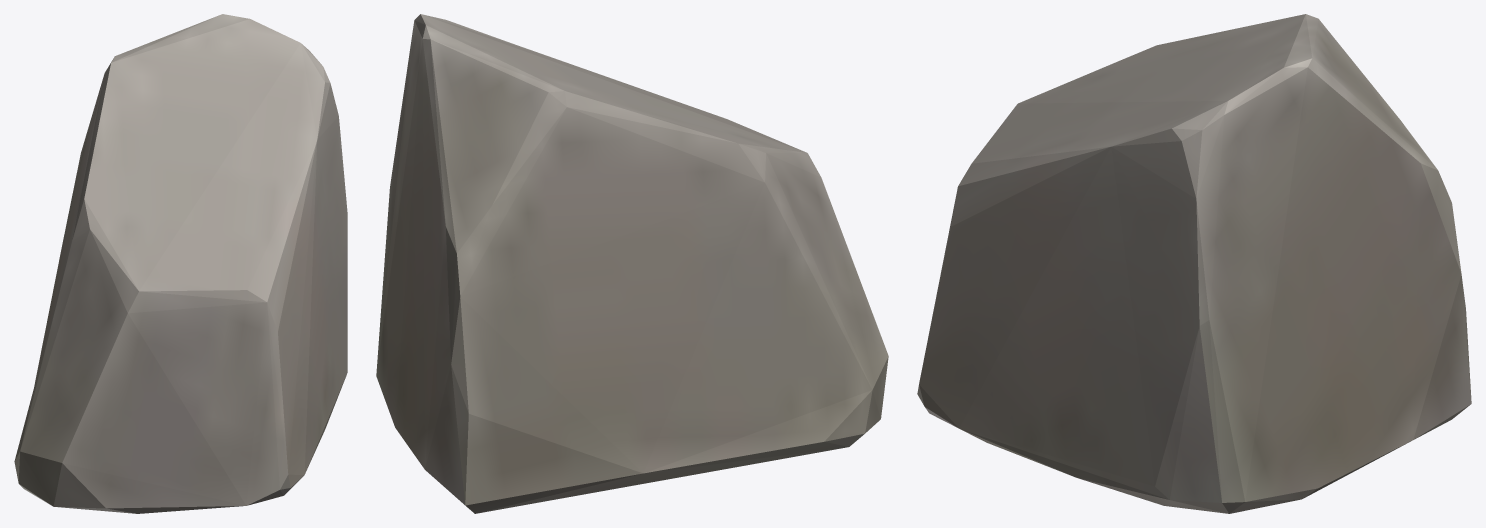
Rendered from rock_02.glb.
The picture shows the model from 3 angles, left to right: view 1: azimuth 30°, elevation 25°; view 2: azimuth 150°, elevation 25°; view 3: azimuth 270°, elevation 25°; orthographic projection. The views are drawn at different scales.
Visible parts, largest first — view 1: SM_Rocks_02_RocksStylized_M_0; view 2: SM_Rocks_02_RocksStylized_M_0; view 3: SM_Rocks_02_RocksStylized_M_0.
Part boxes in pixels (box(x1,y1,x2,y2)): SM_Rocks_02_RocksStylized_M_0: box(14, 14, 347, 513); SM_Rocks_02_RocksStylized_M_0: box(376, 14, 888, 513); SM_Rocks_02_RocksStylized_M_0: box(917, 14, 1471, 513).
Bounding box in the file's own units: 1.6 × 1.45 × 1.72.
Materials: 1 (1 with a texture image).
